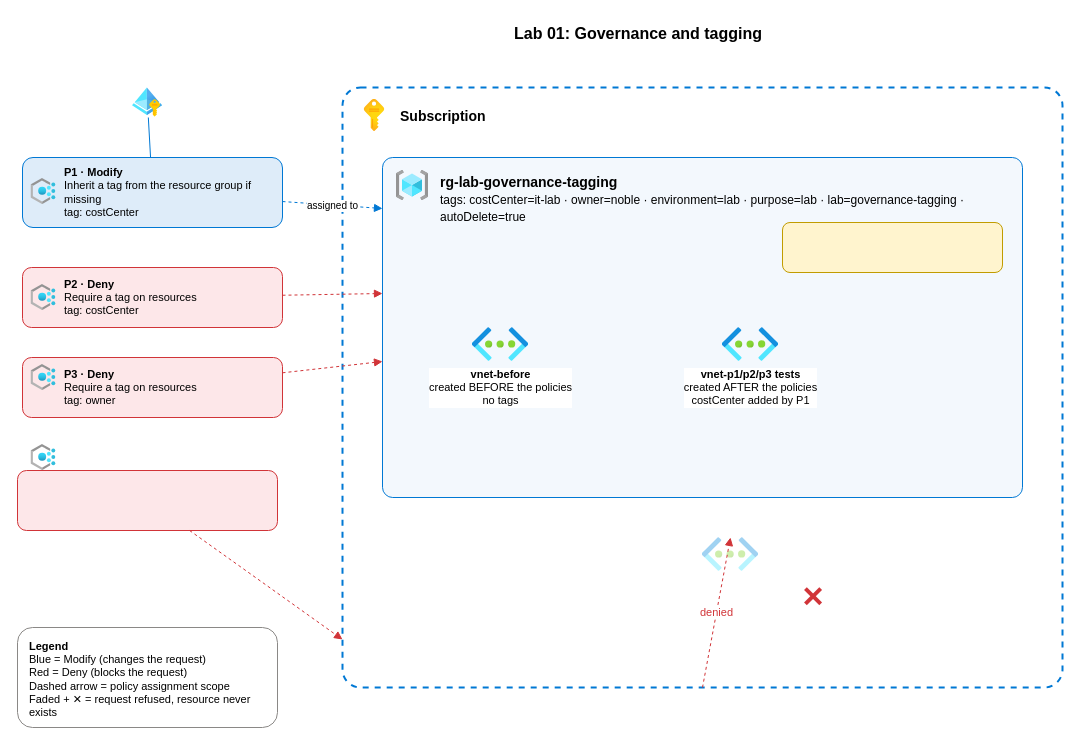
The diagram is 1081 pixels wide and 745 high, and some of its shapes have lost their labels. Here are the shapes that lost their labels. From the top down, the centre of each, then its label:
At point (147, 102): "Managed identity lets P1 write tags".
At point (892, 247): "Lock: lock-no-delete CanNotDelete. Applies to the group and everything in it".
At point (147, 500): "P4 · Deny Allowed locations, East US only assigned to the SUBSCRIPTION".
At point (730, 554): "vnet-westus never created: blocked by P4".
